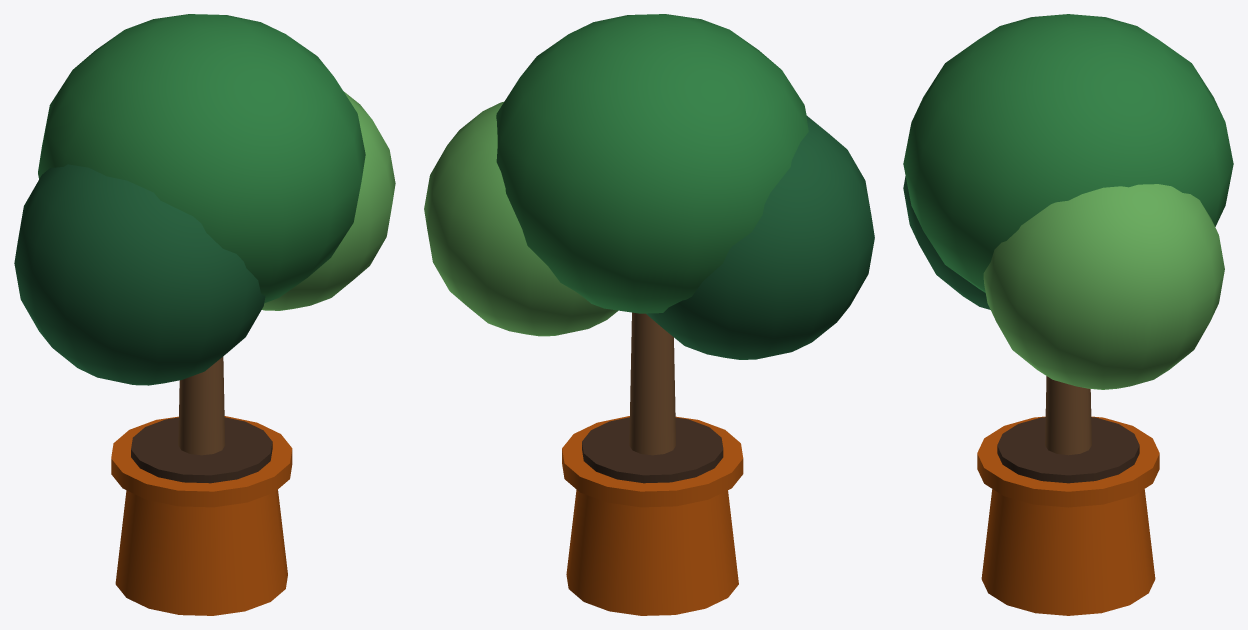
3 renders of one model, left to right at view 1: azimuth 30°, elevation 25°; view 2: azimuth 150°, elevation 25°; view 3: azimuth 270°, elevation 25°, orthographic.
Parts seen in each view (by area): view 1: indoor-ficus; view 2: indoor-ficus; view 3: indoor-ficus.
Boxes of the visible parts, x1,y1,x2,y2 form: indoor-ficus: [14, 14, 395, 615]; indoor-ficus: [424, 14, 874, 615]; indoor-ficus: [903, 14, 1233, 615].
Bounding box in the file's own units: 1.02 × 1.4 × 0.76.
